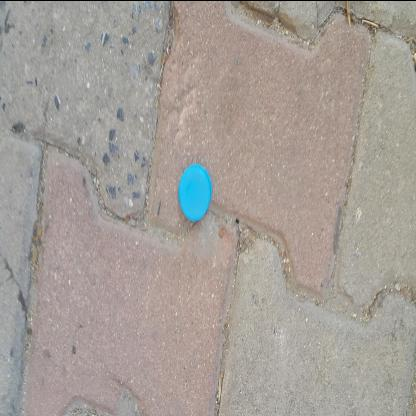plastik: (194, 178, 254, 212)
